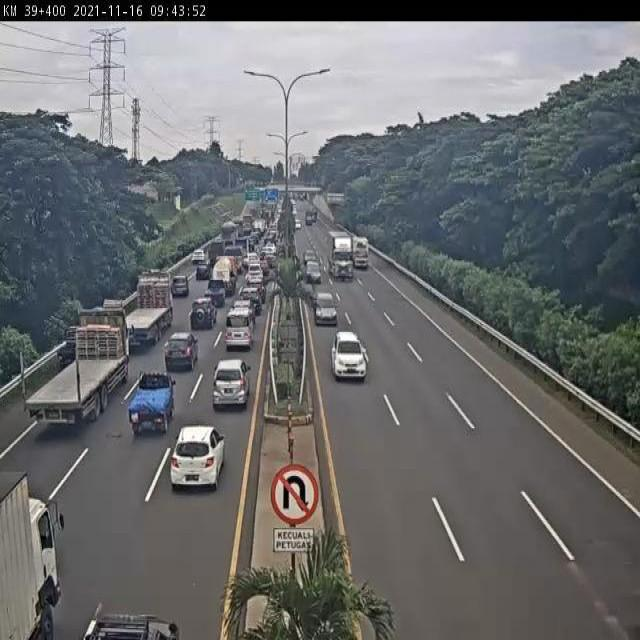car: (168, 426, 226, 494), (129, 374, 174, 434), (211, 360, 250, 413), (333, 332, 368, 381), (164, 332, 199, 375), (225, 308, 254, 349), (189, 296, 216, 332), (314, 292, 338, 327), (170, 275, 190, 301), (206, 279, 226, 305)
truck-l-: (23, 311, 134, 429), (125, 271, 175, 348)
